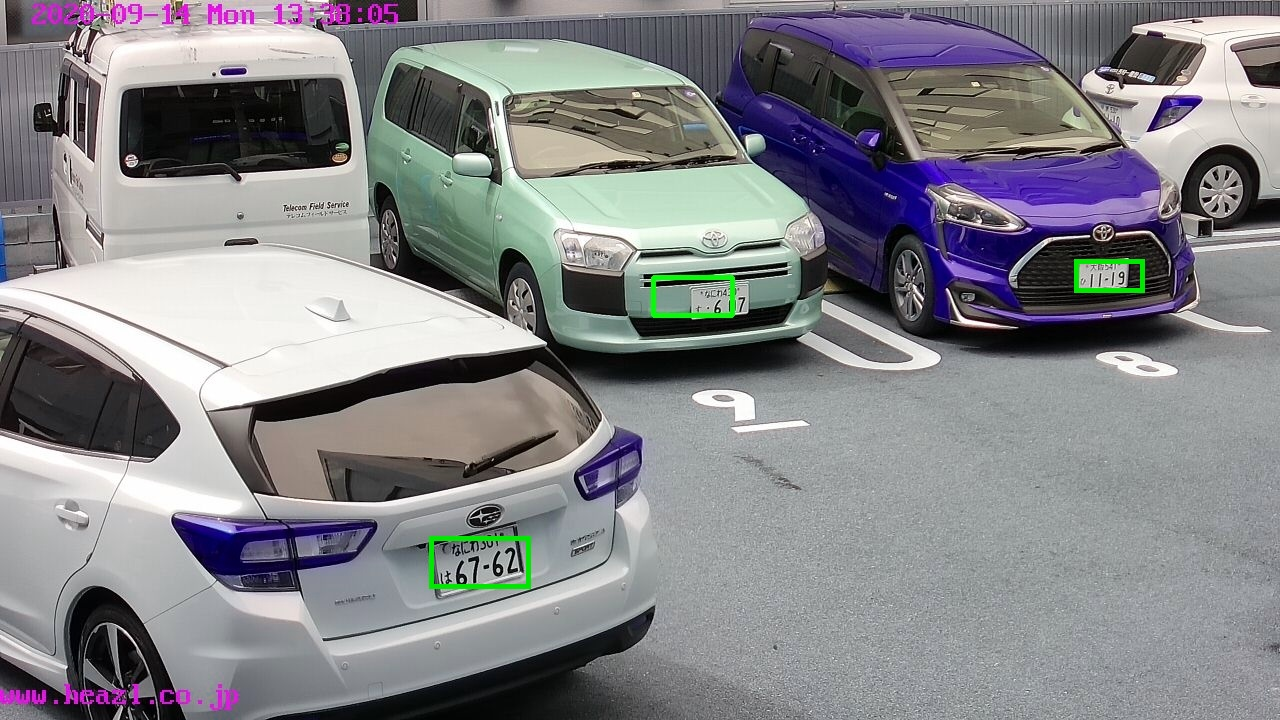number_plate: (438, 530, 520, 586), (691, 286, 747, 316), (1078, 259, 1129, 290)
